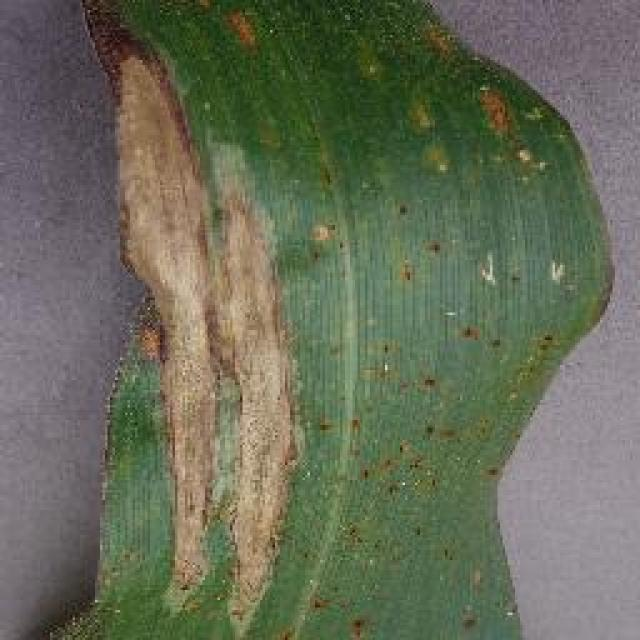Corn___Northern_Leaf_Blight: (5, 0, 627, 638)
